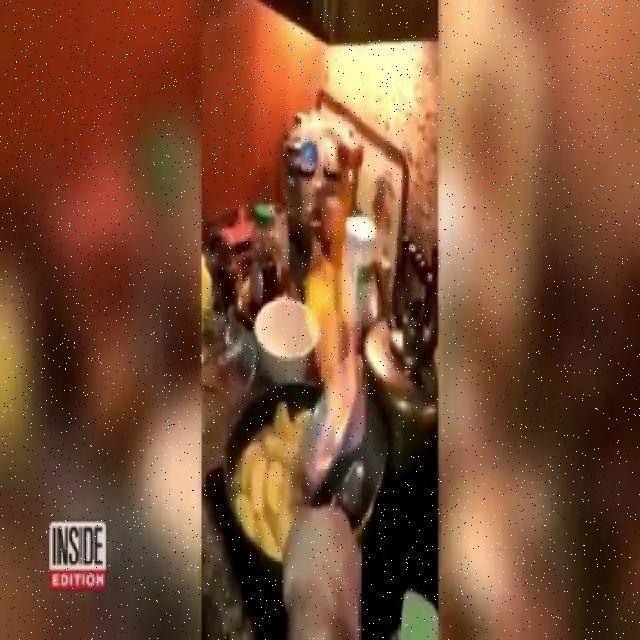smoke: (306, 248, 360, 414)
